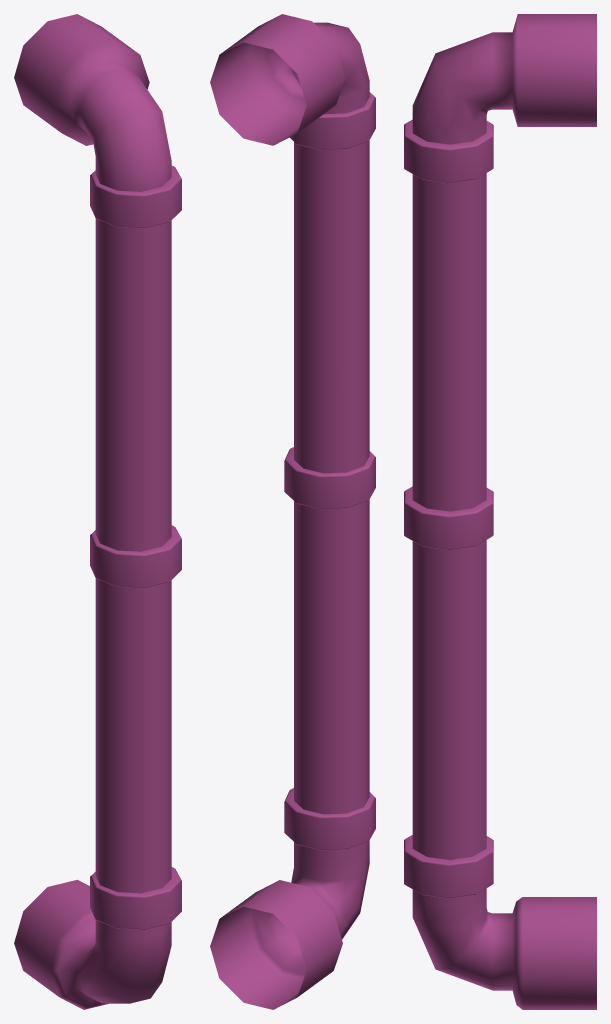
The model's file is Pipe_Small.fbx.
3 renders of one model, left to right at view 1: azimuth 30°, elevation 25°; view 2: azimuth 150°, elevation 25°; view 3: azimuth 270°, elevation 25°, orthographic. The views are drawn at different scales.
Parts seen in each view (by area): view 1: Pipe_Small; view 2: Pipe_Small; view 3: Pipe_Small.
Part boxes in pixels (x1,y1,x2,y2): Pipe_Small: (14,14,181,1009); Pipe_Small: (210,14,375,1009); Pipe_Small: (404,14,596,1009).
Size of the model in its own units: 34.94 by 59.12 by 332.
